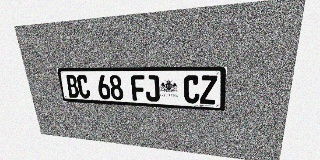6: (96, 75, 111, 99)
8: (109, 75, 124, 100)
B: (65, 75, 80, 98)
C: (184, 75, 200, 104), (76, 75, 91, 99)
F: (130, 75, 146, 101)
J: (144, 75, 160, 102)
Z: (200, 75, 217, 105)
